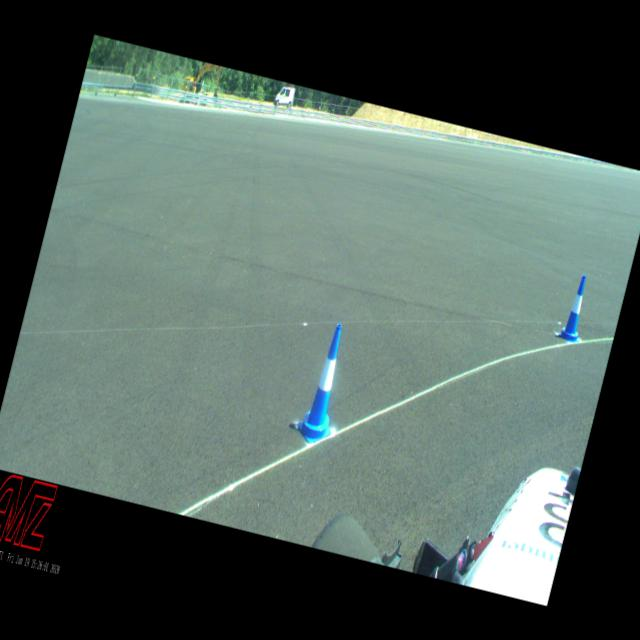blue_cone: (294, 319, 357, 447), (557, 272, 595, 344)
